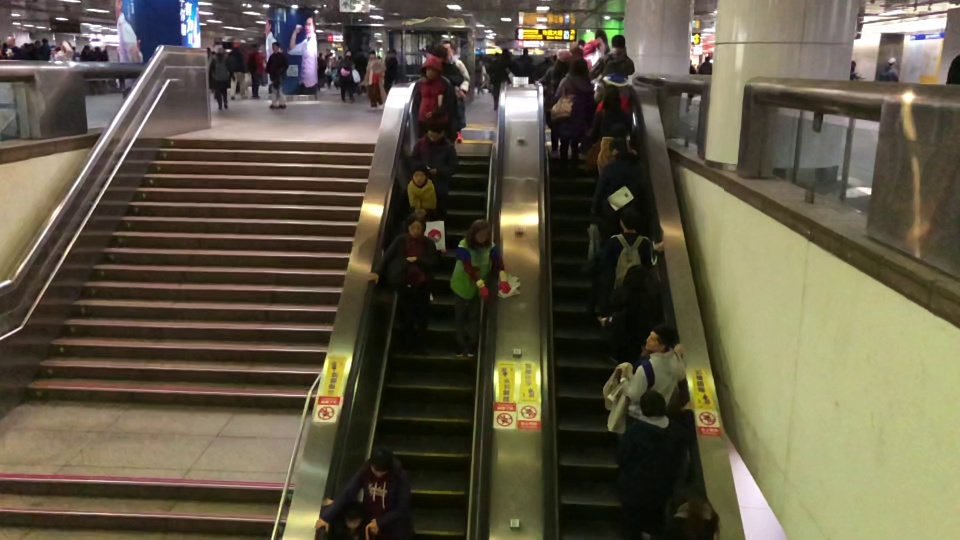person_head: (622, 264, 655, 292), (644, 322, 672, 353), (369, 443, 393, 476), (638, 389, 667, 416), (343, 499, 363, 529), (405, 212, 426, 238), (618, 207, 640, 230), (471, 219, 490, 245), (422, 56, 443, 78), (600, 88, 621, 109), (410, 162, 427, 187), (568, 58, 589, 77), (425, 121, 445, 140), (603, 58, 625, 75), (608, 137, 627, 155), (582, 39, 599, 56), (610, 122, 628, 137), (610, 34, 626, 50), (555, 48, 571, 63), (441, 40, 456, 55), (542, 49, 554, 61), (5, 35, 16, 47), (213, 43, 224, 54), (886, 56, 897, 67), (59, 40, 69, 52), (271, 40, 280, 52), (250, 41, 259, 50), (368, 49, 376, 58), (232, 40, 240, 48), (344, 49, 351, 57), (850, 59, 855, 70), (41, 37, 48, 44), (705, 55, 711, 62)
person_vbox: (614, 389, 695, 517), (367, 212, 438, 356), (314, 443, 411, 540), (449, 218, 511, 357), (619, 322, 687, 422), (399, 162, 445, 303), (602, 264, 665, 366), (413, 122, 459, 254), (599, 207, 665, 292), (554, 57, 594, 178), (590, 137, 642, 218), (537, 47, 572, 156), (409, 56, 455, 137), (440, 39, 470, 143), (587, 33, 635, 81), (593, 87, 632, 137), (320, 497, 363, 540), (593, 59, 633, 104), (596, 122, 629, 176), (266, 40, 290, 109), (207, 43, 231, 109), (362, 48, 386, 111), (244, 40, 266, 99), (227, 40, 248, 100), (336, 49, 356, 105), (536, 49, 555, 77), (879, 56, 900, 81), (687, 59, 696, 104), (849, 59, 865, 81), (52, 40, 69, 60), (4, 34, 17, 58), (698, 54, 711, 74), (39, 37, 49, 60)
